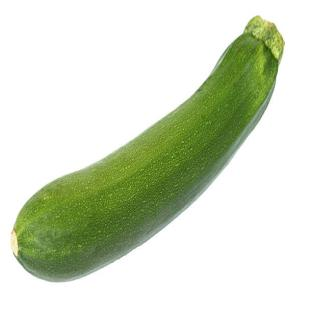Zucchini: (12, 17, 283, 281)
